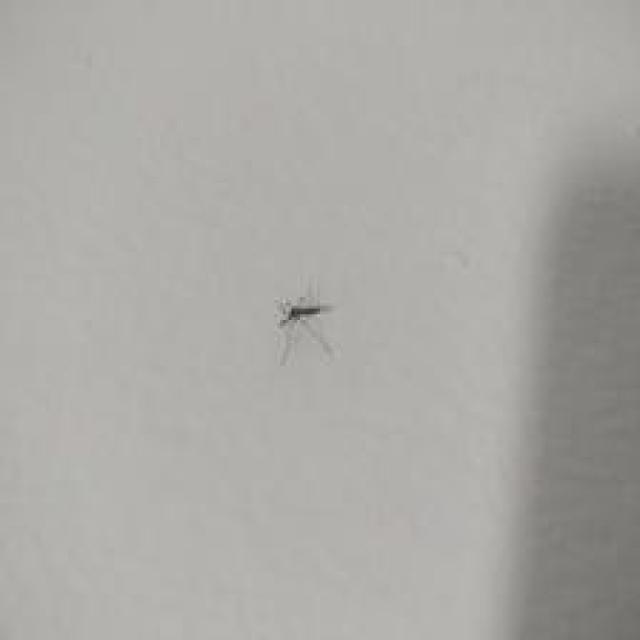Aedes albopictus: (273, 287, 336, 367)
